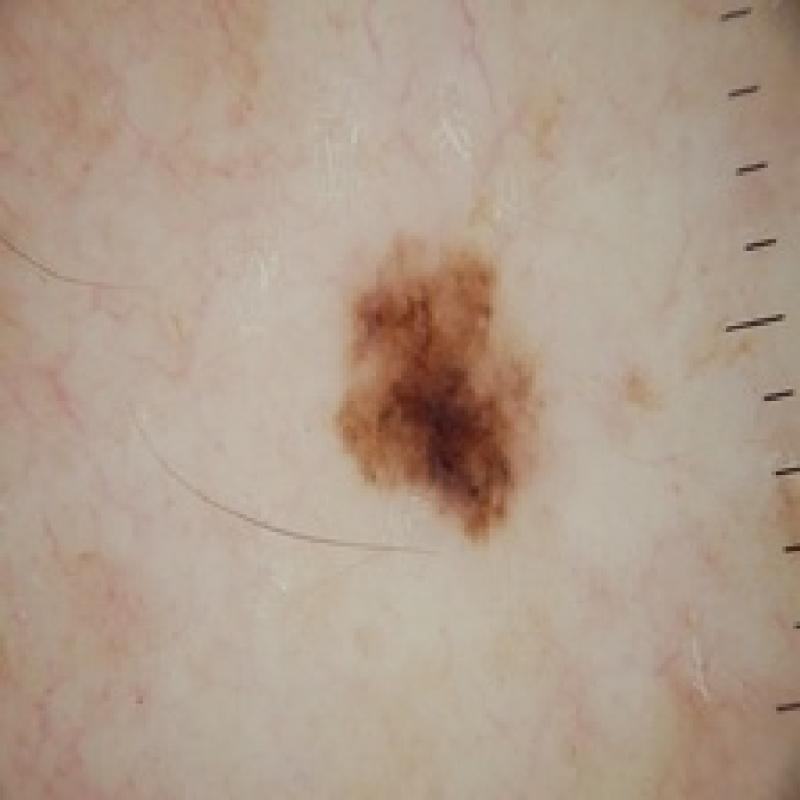malignant: (278, 198, 594, 570)
